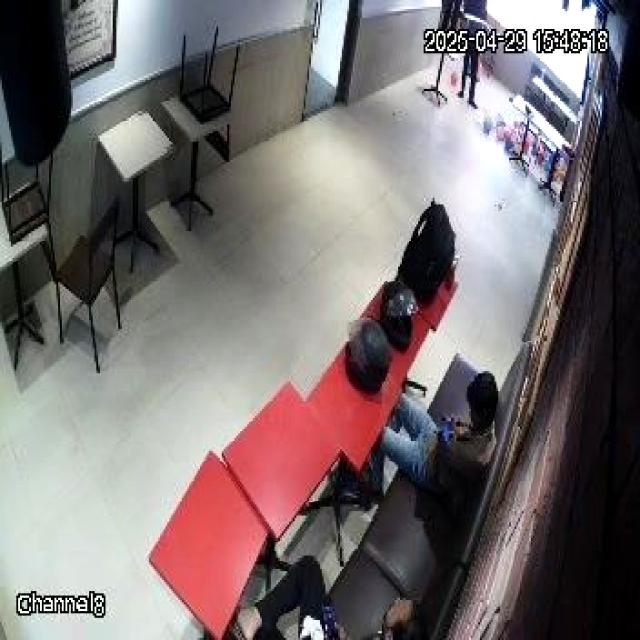helmet: (344, 316, 391, 392), (379, 280, 416, 349)
